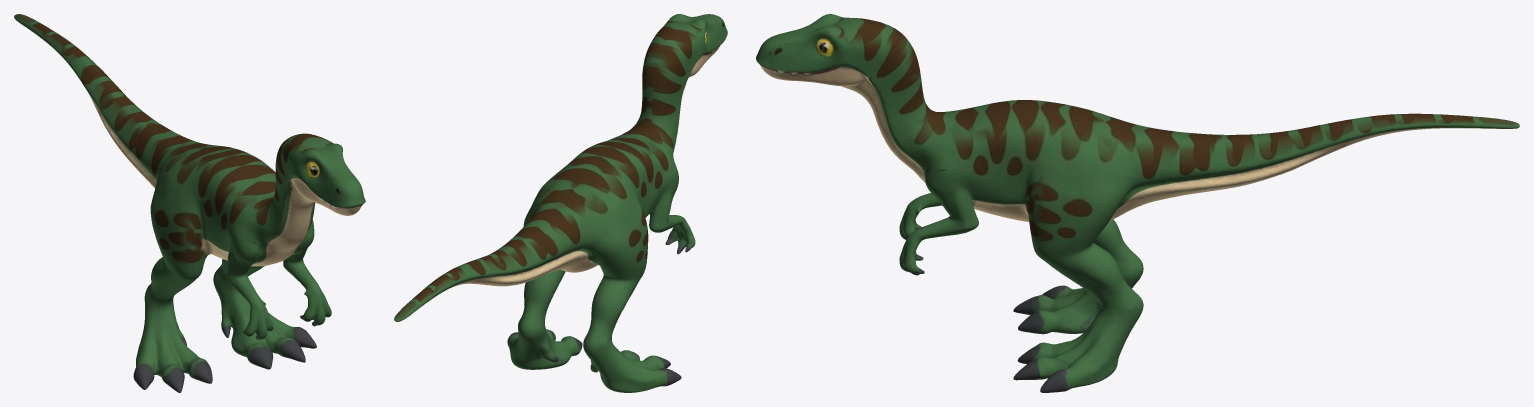
File: E-dino.glb
3 views of the same model, side by side, from view 1: azimuth 30°, elevation 25°; view 2: azimuth 150°, elevation 25°; view 3: azimuth 270°, elevation 25° (orthographic). The views are drawn at different scales.
Size of the model in its own units: 0.5582 by 0.8939 by 1.9.
1 material, 1 textured.
